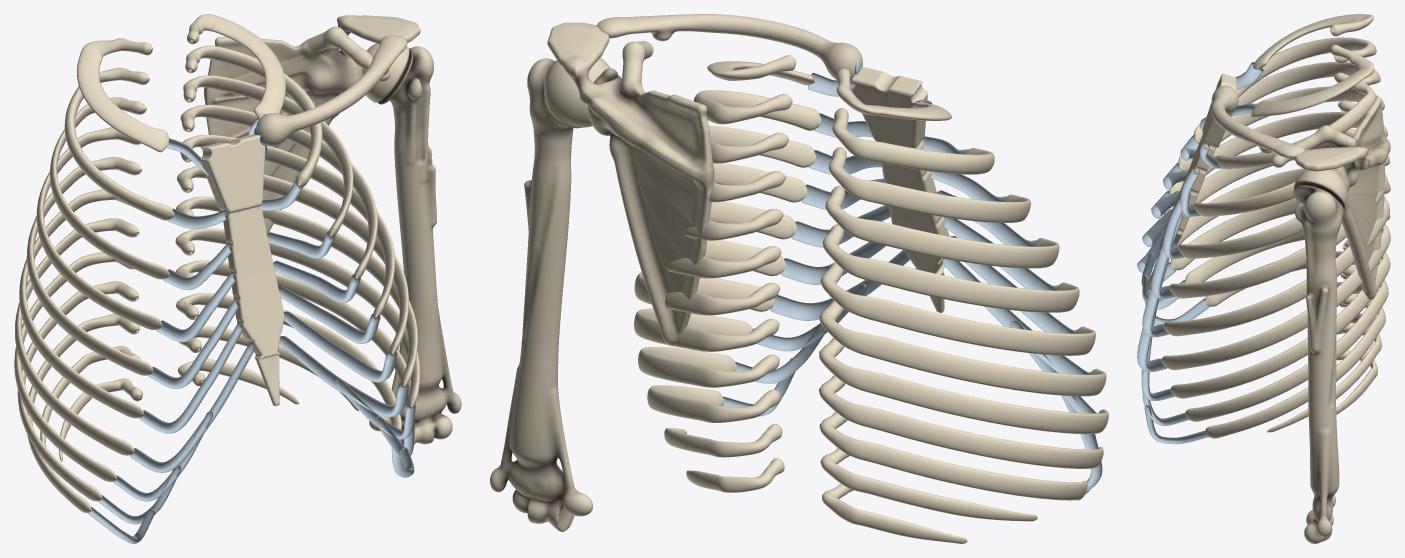
The model's file is hombro-vista-anterior.glb.
The picture shows the model from 3 angles, left to right: view 1: azimuth 30°, elevation 25°; view 2: azimuth 150°, elevation 25°; view 3: azimuth 270°, elevation 25°; orthographic projection. The views are drawn at different scales.
Visible parts, largest first — view 1: sternum_body, humerus_L_shaft, sternum_manubrium, rib_R_01, clavicle_L, rib_R_05, scapula_L_infraspinous_fossa, rib_R_07, rib_L_07, rib_L_08, rib_R_06, rib_L_06 (+48 smaller); view 2: scapula_L_infraspinous_fossa, humerus_L_shaft, rib_R_07, rib_R_06, rib_R_08, rib_R_05, rib_R_09, rib_R_04, clavicle_L, rib_R_10, rib_R_03, scapula_L_spine (+40 smaller); view 3: scapula_L_infraspinous_fossa, rib_L_07, rib_L_08, rib_L_09, rib_L_06, humerus_L_shaft, rib_L_10, rib_L_05, rib_R_03, rib_L_01, clavicle_L, rib_R_05 (+46 smaller).
Boxes of the visible parts, <box> form: sternum_body: <box>223,205,284,359</box>; humerus_L_shaft: <box>394,149,440,372</box>; sternum_manubrium: <box>200,134,265,213</box>; rib_R_01: <box>77,38,168,152</box>; clavicle_L: <box>256,35,407,146</box>; rib_R_05: <box>26,157,153,375</box>; scapula_L_infraspinous_fossa: <box>204,59,339,233</box>; rib_R_07: <box>15,218,139,455</box>; rib_L_07: <box>176,196,417,388</box>; rib_L_08: <box>175,228,420,409</box>; rib_R_06: <box>19,189,143,418</box>; rib_L_06: <box>177,166,408,356</box>; scapula_L_infraspinous_fossa: <box>609,133,714,346</box>; humerus_L_shaft: <box>514,180,571,445</box>; rib_R_07: <box>819,300,1106,396</box>; rib_R_06: <box>820,262,1095,355</box>; rib_R_08: <box>819,338,1108,434</box>; rib_R_05: <box>822,224,1079,312</box>; rib_R_09: <box>819,375,1103,468</box>; rib_R_04: <box>825,185,1059,268</box>; clavicle_L: <box>597,14,862,81</box>; rib_R_10: <box>819,412,1087,500</box>; rib_R_03: <box>828,147,1030,222</box>; scapula_L_spine: <box>568,72,713,187</box>; scapula_L_infraspinous_fossa: <box>1341,162,1385,299</box>; rib_L_07: <box>1161,224,1390,370</box>; rib_L_08: <box>1170,240,1390,398</box>; rib_L_09: <box>1184,266,1388,421</box>; rib_L_06: <box>1163,197,1389,336</box>; humerus_L_shaft: <box>1307,276,1339,479</box>; rib_L_10: <box>1205,294,1385,438</box>; rib_L_05: <box>1169,173,1387,298</box>; rib_R_03: <box>1194,61,1380,143</box>; rib_L_01: <box>1251,44,1373,117</box>; clavicle_L: <box>1210,85,1304,158</box>; rib_R_05: <box>1169,112,1387,194</box>.
Size of the model in its own units: 0.3759 by 0.3526 by 0.2016.
